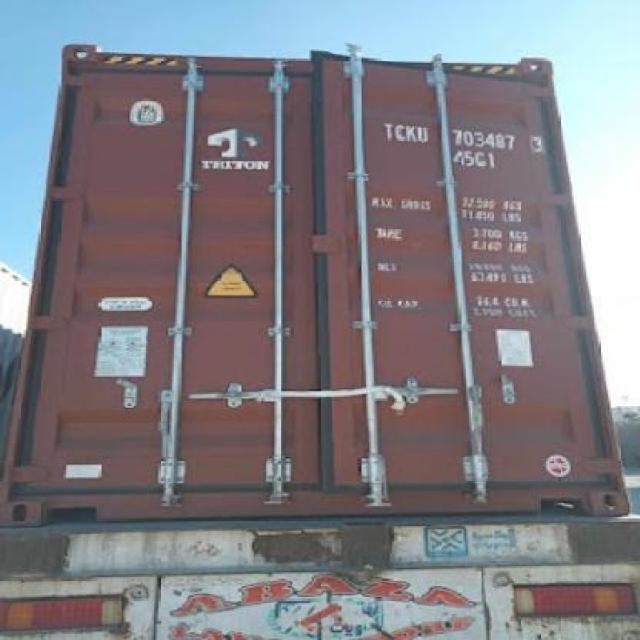ISO: (452, 151, 498, 168)
container_number: (389, 127, 541, 149)
